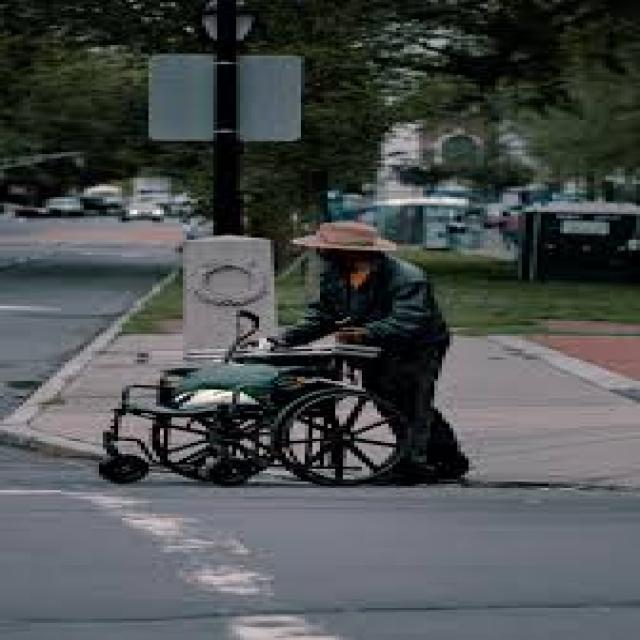wheelchairs: (107, 349, 419, 490)
